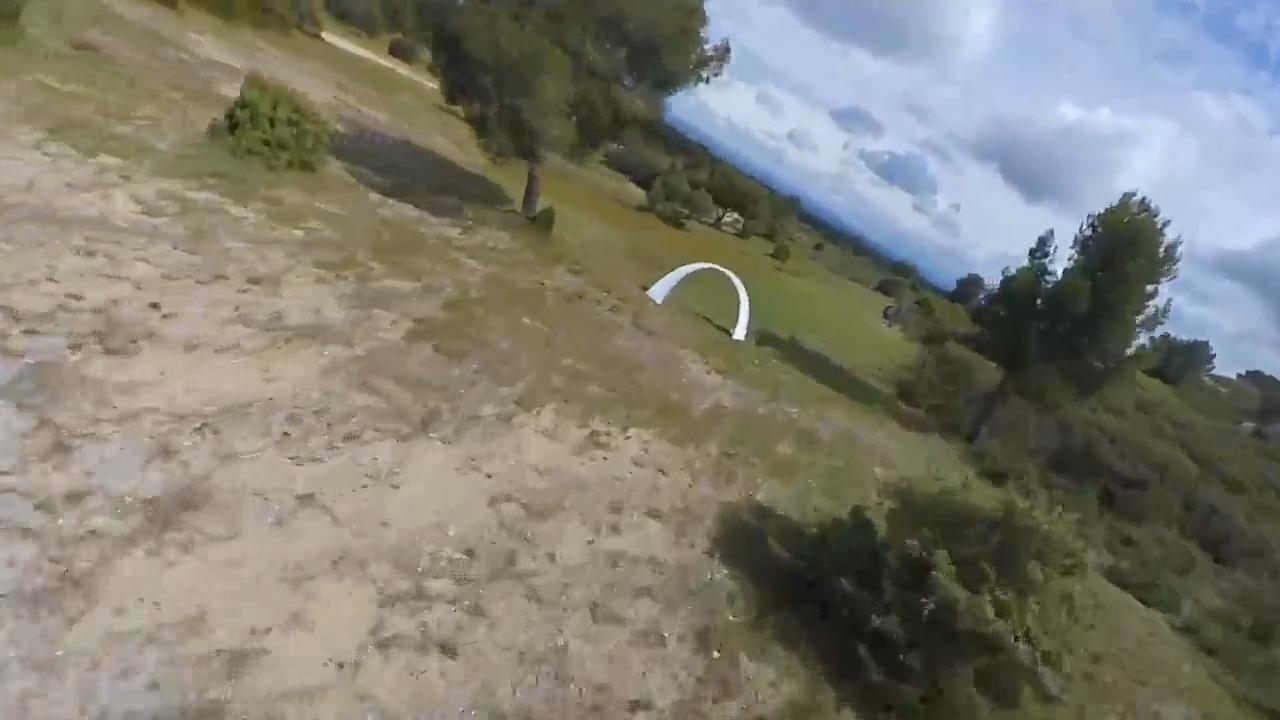gate: (647, 262, 749, 342)
